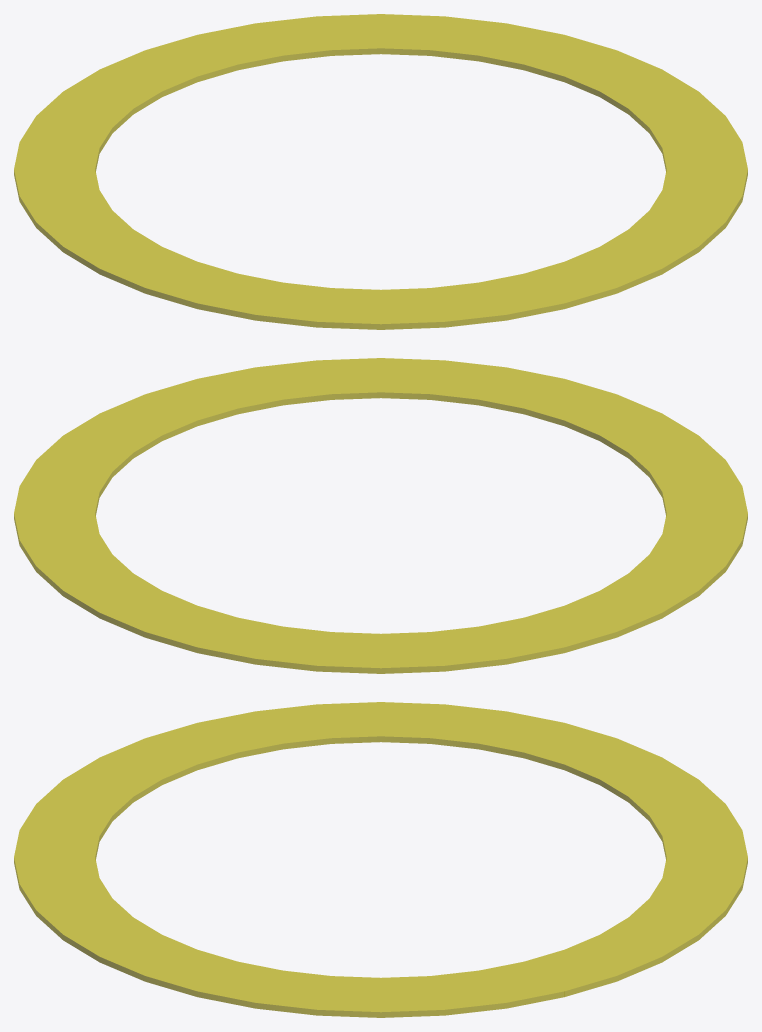
3 renders of one model, top to bottom at view 1: azimuth 30°, elevation 25°; view 2: azimuth 150°, elevation 25°; view 3: azimuth 270°, elevation 25°, orthographic.
Visible parts, largest first — view 1: Model; view 2: Model; view 3: Model.
Part boxes in pixels (left/top/right/bottom): Model: left=14, top=14, right=747, bottom=329; Model: left=14, top=358, right=747, bottom=673; Model: left=14, top=702, right=747, bottom=1017.
Bounding box in the file's own units: 6.32 × 0.055 × 6.32.
